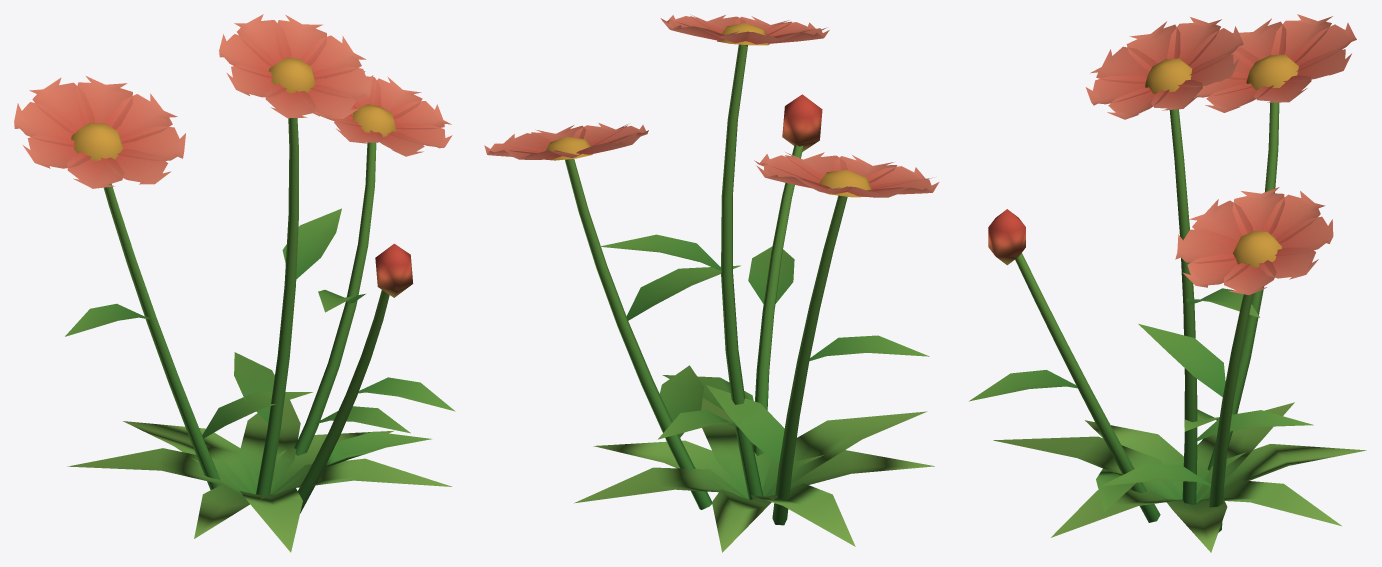
Rendered from flower_cosmos_a.glb.
The picture shows the model from 3 angles, left to right: view 1: azimuth 30°, elevation 25°; view 2: azimuth 150°, elevation 25°; view 3: azimuth 270°, elevation 25°; orthographic projection. The views are drawn at different scales.
Visible parts, largest first — view 1: flower_cosmos_a; view 2: flower_cosmos_a; view 3: flower_cosmos_a.
Part boxes in pixels (left/top/right/bottom): flower_cosmos_a: left=14, top=14, right=455, bottom=552; flower_cosmos_a: left=484, top=14, right=939, bottom=552; flower_cosmos_a: left=969, top=14, right=1366, bottom=552.
Size of the model in its own units: 0.5707 by 0.6187 by 0.4611.
